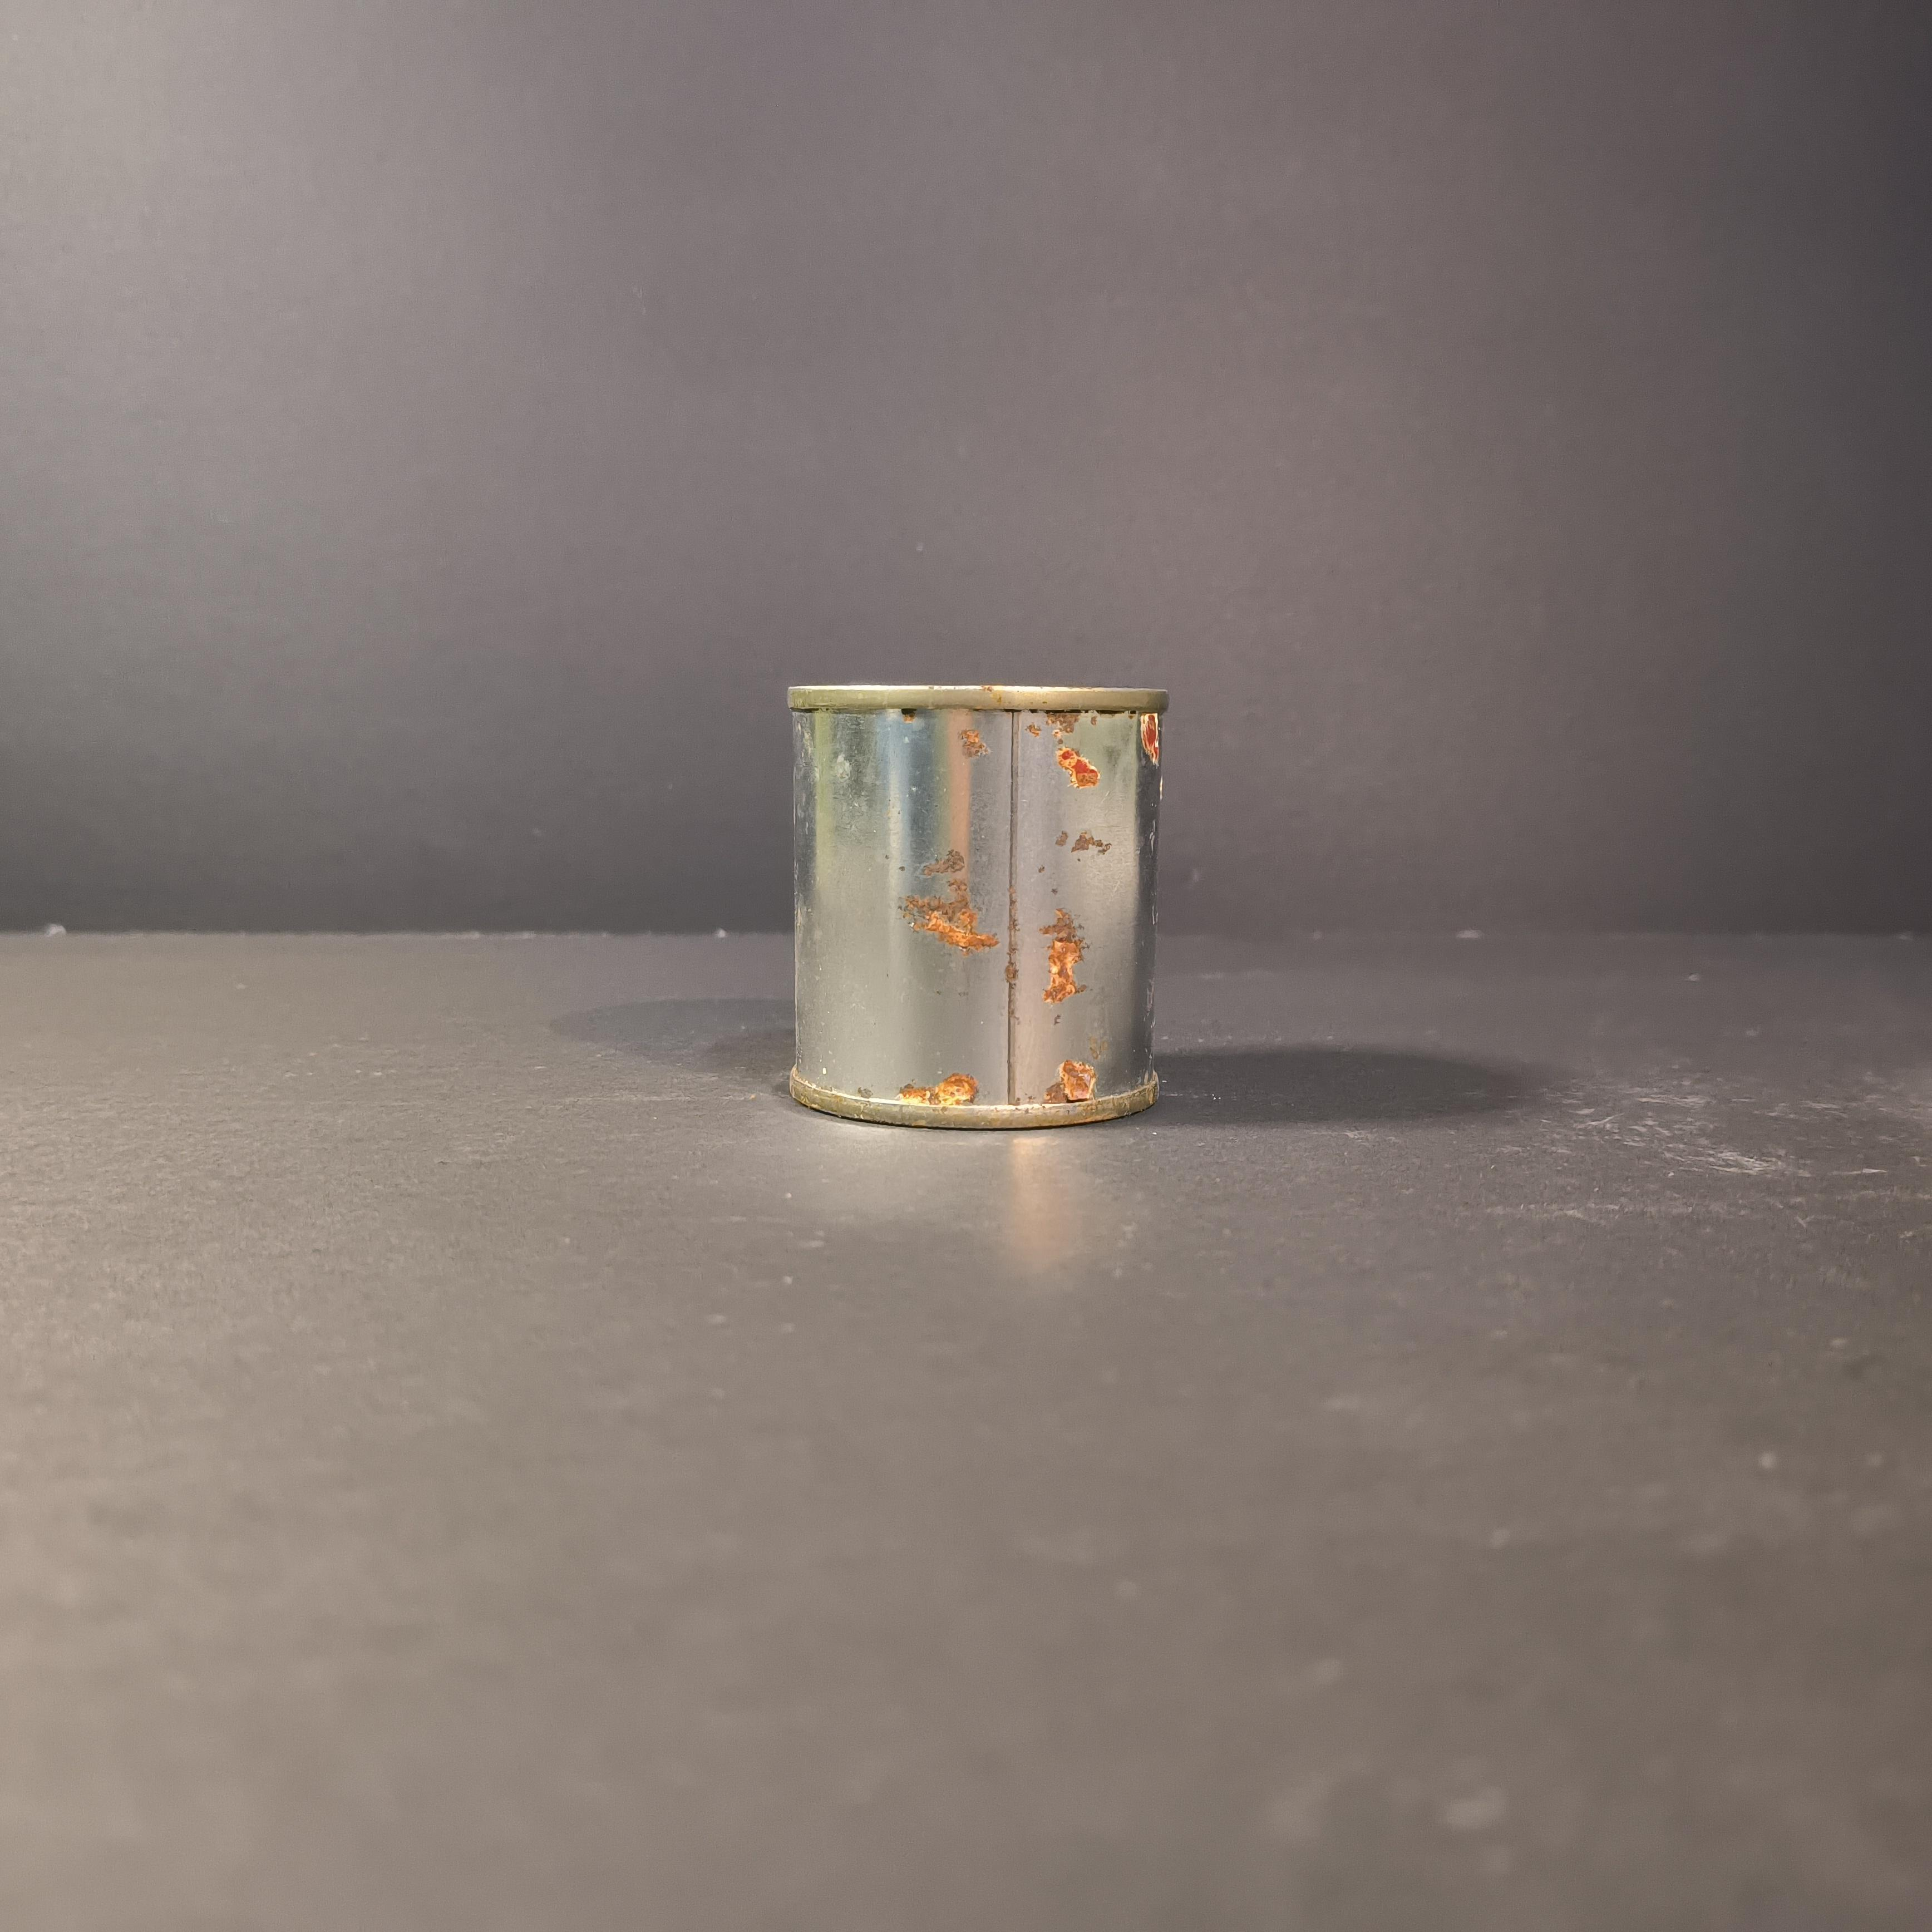Rusted: (764, 651, 1194, 1152)
